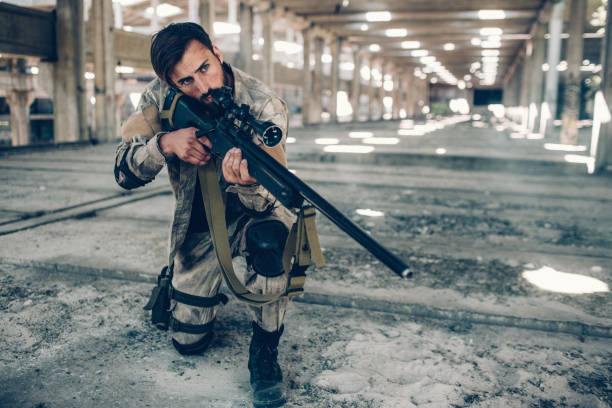gun: (161, 86, 415, 281)
